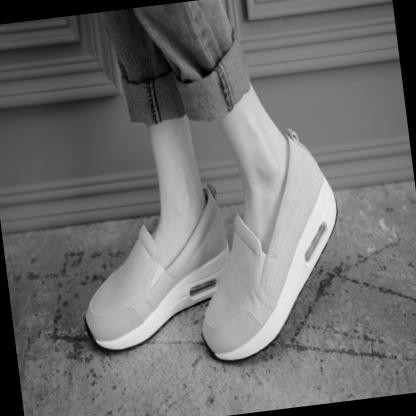ankle: (230, 132, 297, 207), (147, 166, 205, 244)
heel: (293, 155, 343, 242), (191, 211, 234, 292)
left_foot: (204, 147, 369, 374)
pinky: (228, 326, 236, 339), (86, 299, 95, 307)
right_foot: (43, 188, 244, 342)
toe: (105, 327, 116, 342), (204, 311, 211, 321)
